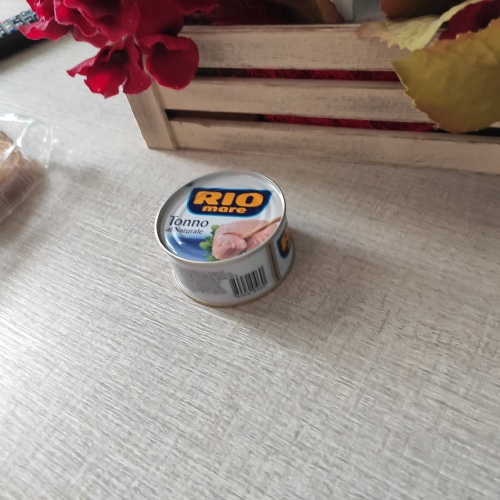tonno: (149, 164, 303, 313)
